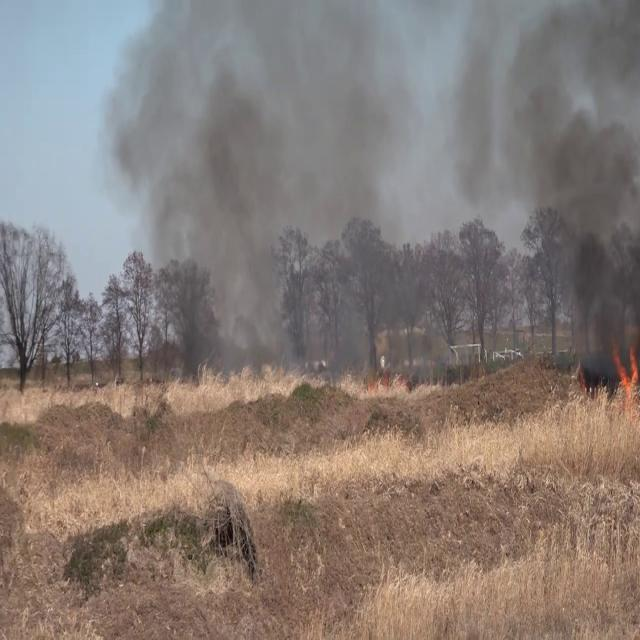Fire: (609, 335, 639, 400)
Smoke: (109, 0, 392, 392), (434, 0, 640, 362)
